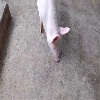heo: (37, 13, 71, 63)
